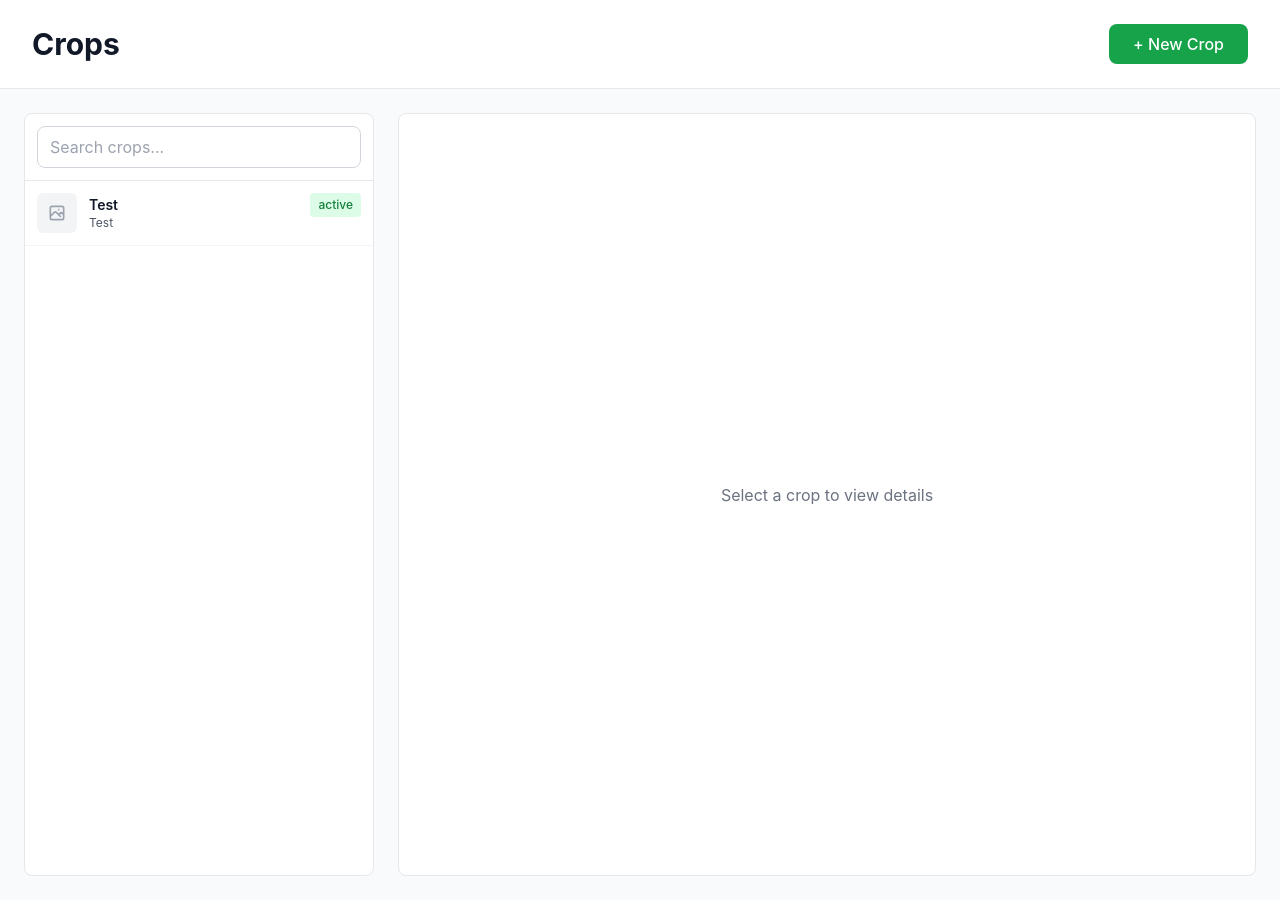
AdminCropsPage › Procedures Tab › should calculate total growth days correctly
Click the 1st text "Test": (104, 205) [89, 195, 118, 215]
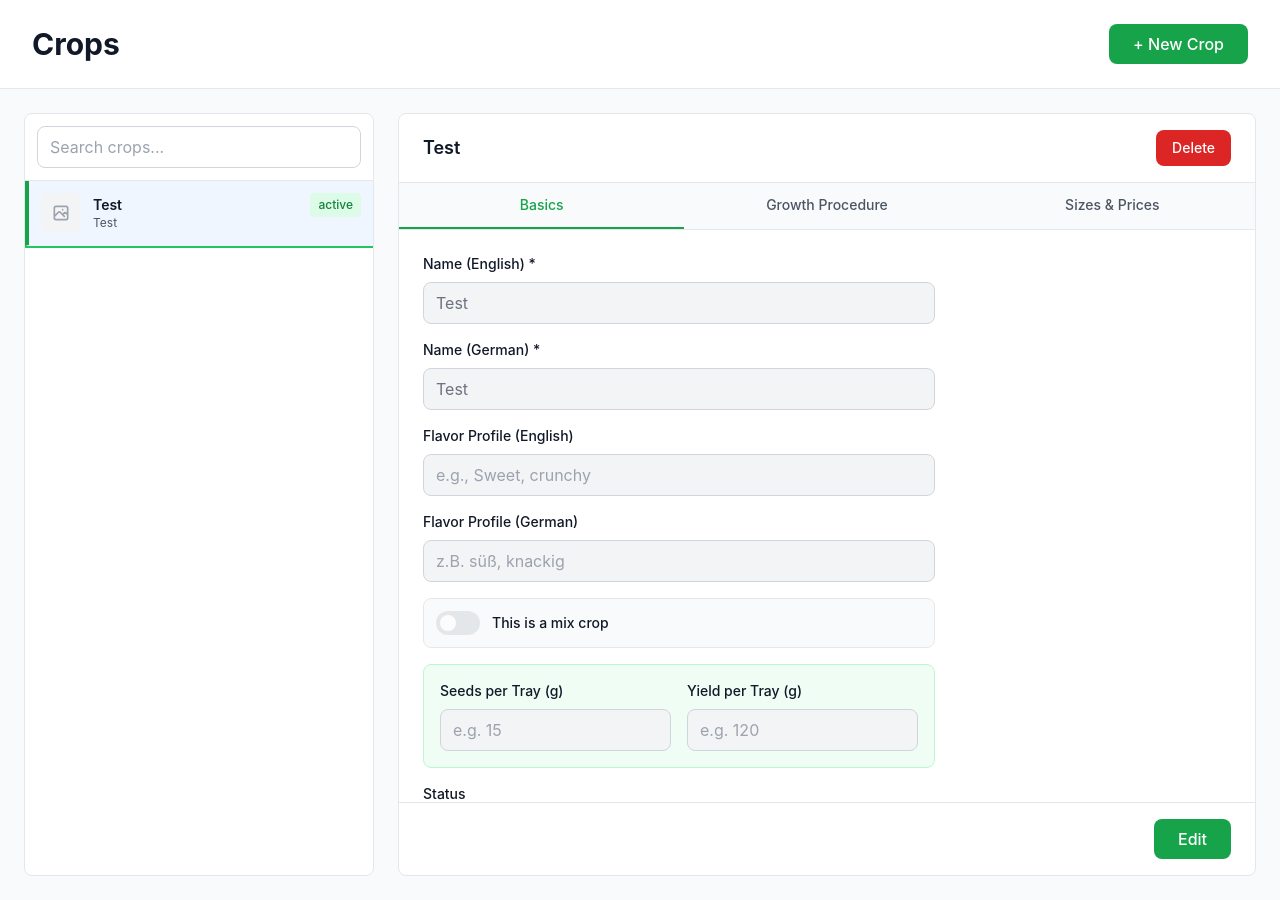
Click the button "Growth Procedure": (827, 206) [684, 183, 970, 229]
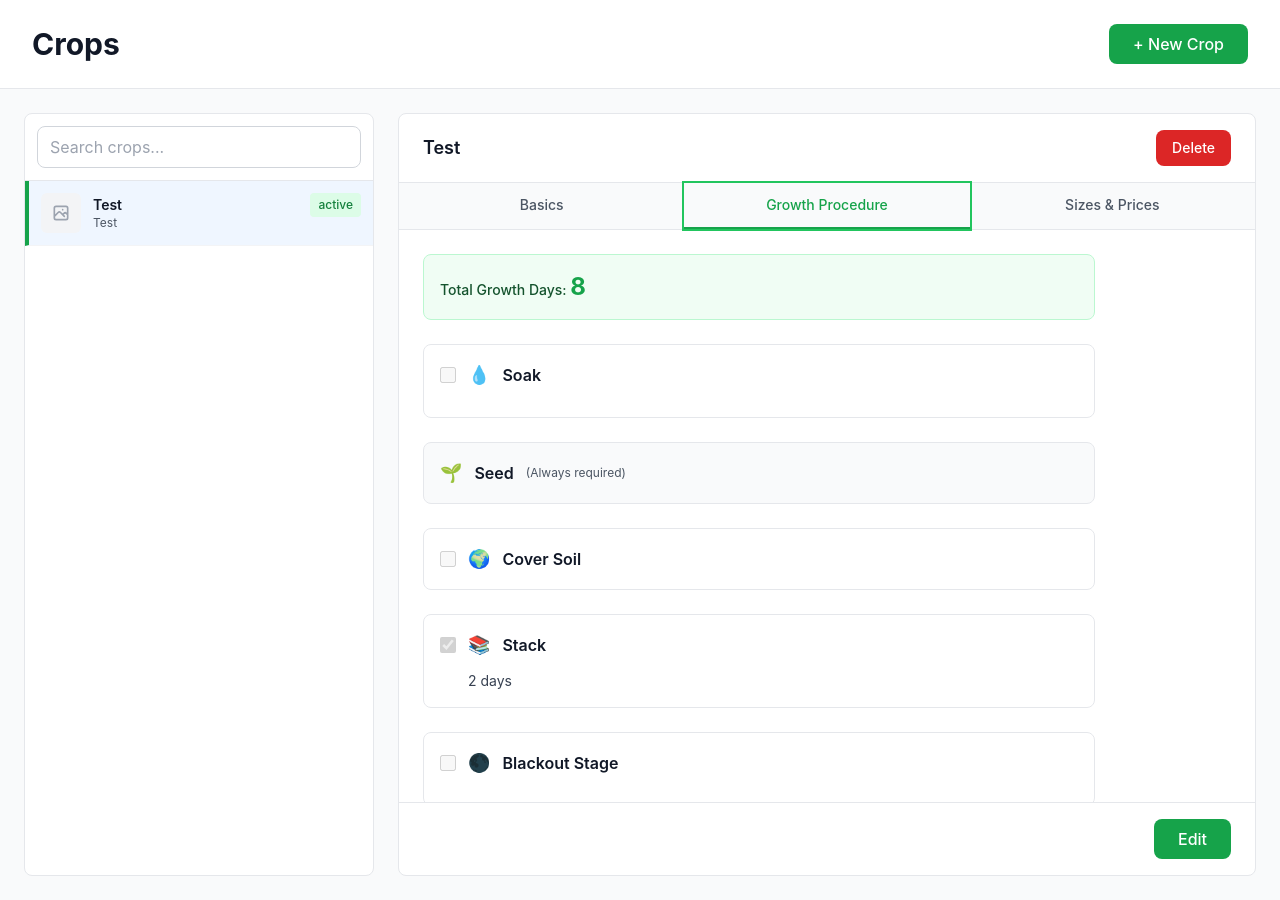
Check: the text "Total Growth Days:" is shown, box [440, 281, 570, 298]
Check: the text "8" is shown, box [570, 272, 586, 301]
